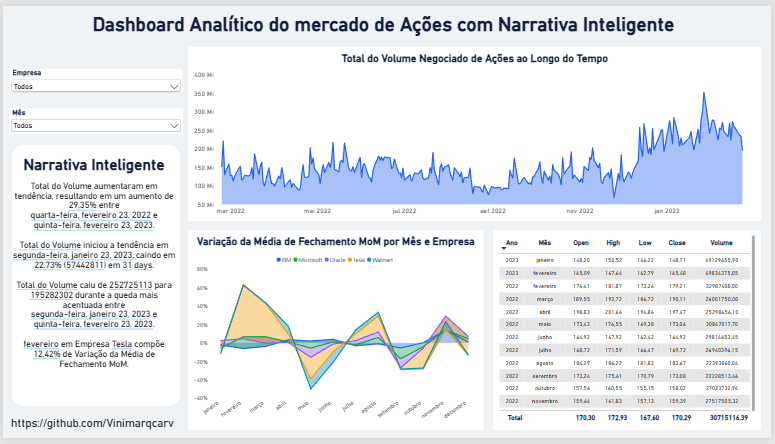

What the dashboard file says about the page in this screenshot:
{"tool":"powerbi","page":{"name":"Página 1","canvas":[1920,1080],"ordinal":0},"visuals":[{"type":"areaChart","fields":{"Category":["StockMarket.Data.Variação.Hierarquia de datas.Ano","StockMarket.Data.Variação.Hierarquia de datas.Trimestre","StockMarket.Data.Variação.Hierarquia de datas.Mês","StockMarket.Data.Variação.Hierarquia de datas.Dia"],"Y":["Sum(StockMarket.Volume)"]},"box":[716.3,0,1203.4,557.6],"z":0},{"type":"tableEx","fields":{"Values":["StockMarket.Data.Variação.Hierarquia de datas.Ano","StockMarket.Data.Variação.Hierarquia de datas.Mês","Avg(StockMarket.Open)","Avg(StockMarket.High)","Avg(StockMarket.Low)","Avg(StockMarket.Close)","Avg(StockMarket.Volume)"]},"box":[1135.3,633.5,785,421.5],"z":1},{"type":"stackedAreaChart","fields":{"Category":["StockMarket.Data.Variação.Hierarquia de datas.Mês"],"Series":["StockMarket.Empresa"],"Y":["StockMarket.Média de Close MoM%"]},"box":[0,632.5,1065,422.5],"z":2},{"type":"slicer","fields":{"Values":["StockMarket.Empresa"]},"box":[0,0,715,72.5],"z":3},{"type":"slicer","fields":{"Values":["StockMarket.Data.Variação.Hierarquia de datas.Mês"]},"box":[0,72.9,714.3,85.7],"z":4}]}

Visuals, with their boxes in screenshot pixels (x1, y1, x2, y2), scaled from the page's 1920x1080 canvas onto the 775x444 screenshot:
areaChart - StockMarket.Data.Variação.Hierarquia de datas.Ano x StockMarket.Data.Variação.Hierarquia de datas.Trimestre: select_region(289, 0, 774, 229)
tableEx - StockMarket.Data.Variação.Hierarquia de datas.Ano x StockMarket.Data.Variação.Hierarquia de datas.Mês: select_region(458, 260, 774, 434)
stackedAreaChart - StockMarket.Data.Variação.Hierarquia de datas.Mês x StockMarket.Empresa: select_region(0, 260, 430, 434)
slicer - StockMarket.Empresa: select_region(0, 0, 289, 30)
slicer - StockMarket.Data.Variação.Hierarquia de datas.Mês: select_region(0, 30, 288, 65)
